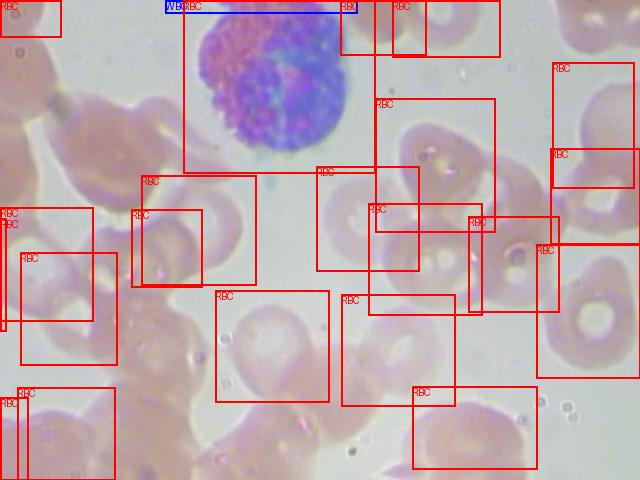RBC: (183, 0, 375, 173), (375, 98, 495, 232), (536, 244, 640, 378), (215, 290, 329, 402), (341, 294, 455, 406), (368, 203, 482, 315), (141, 175, 256, 285), (20, 252, 117, 365), (316, 166, 419, 271), (0, 207, 93, 321), (412, 386, 537, 469), (552, 62, 634, 188), (17, 387, 115, 480), (468, 216, 559, 312), (550, 148, 640, 244), (392, 0, 500, 57), (131, 209, 202, 287), (340, 0, 426, 55), (0, 397, 28, 480), (0, 0, 61, 37), (0, 218, 6, 331)
WBC: (165, 0, 357, 13)
